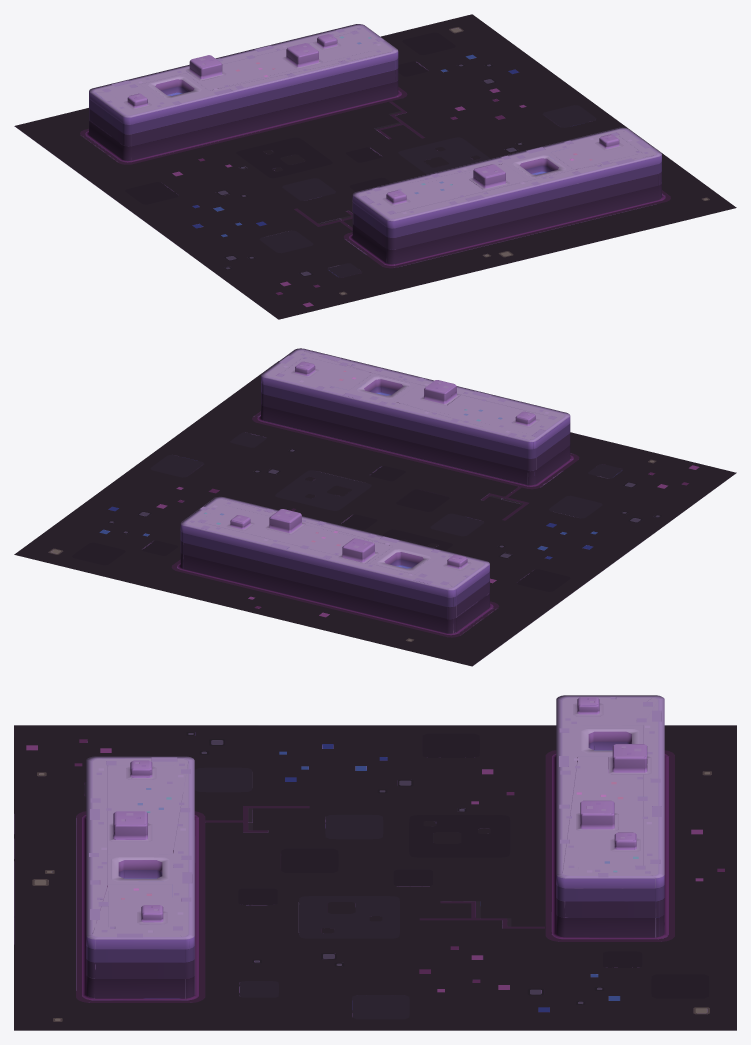
The model's file is C_special1_01.fbx.
3 views of the same model, one above another, from view 1: azimuth 30°, elevation 25°; view 2: azimuth 150°, elevation 25°; view 3: azimuth 270°, elevation 25° (orthographic). The views are drawn at different scales.
Visible parts, largest first — view 1: C_special1_01; view 2: C_special1_01; view 3: C_special1_01.
Boxes of the visible parts, x1,y1,x2,y2 form: C_special1_01: (14,14,736,319); C_special1_01: (14,348,736,666); C_special1_01: (14,695,736,1030).
Bounding box in the file's own units: 50 × 5.85 × 50.
Materials: 1 (1 with a texture image).
